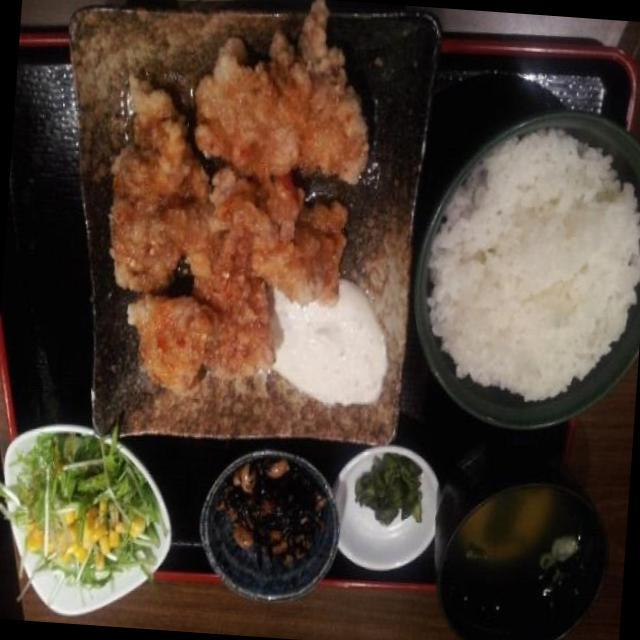Green Salad: (0, 422, 163, 616)
Rice: (415, 129, 640, 407)
